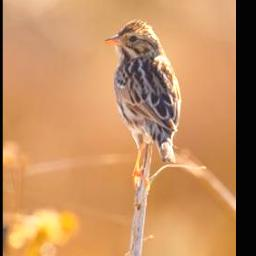Sparrow: (101, 18, 182, 190)
